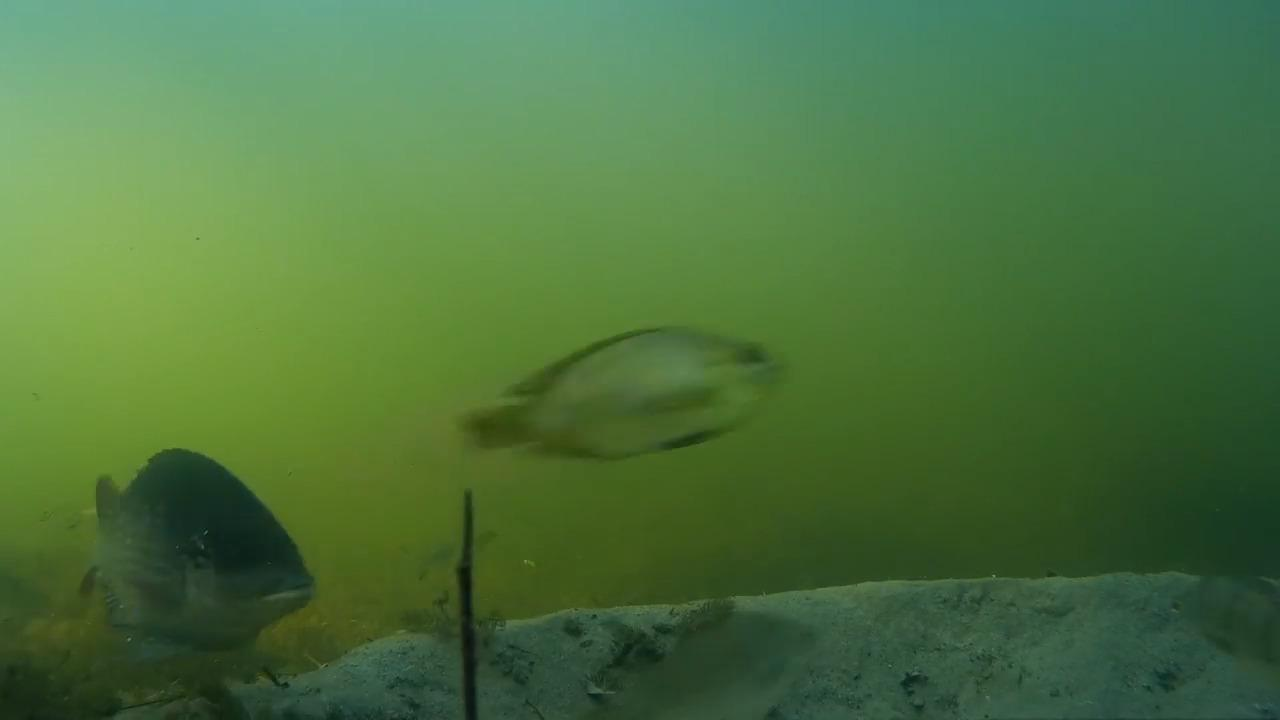Tilapia: (460, 304, 801, 478), (79, 442, 315, 664)
